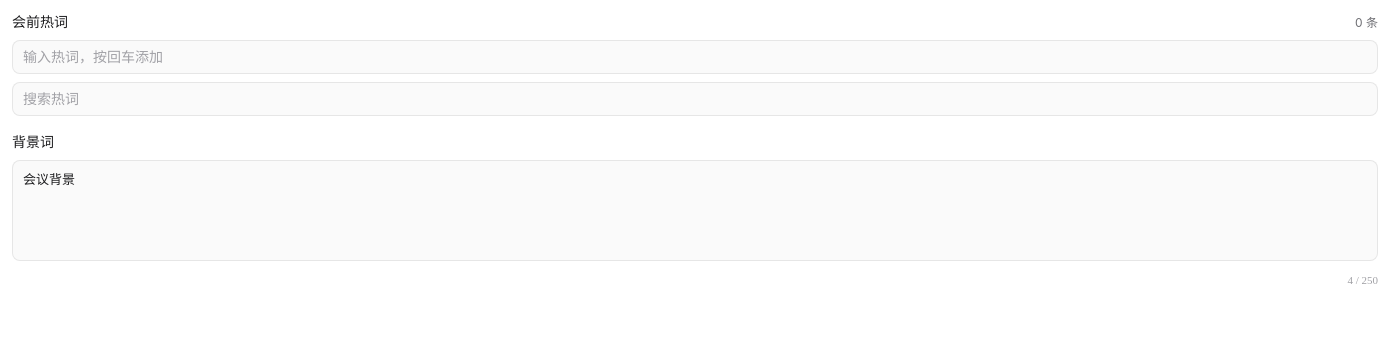
Test case: HotwordEditor › adds on Enter, deduplicates, and saves removals
The image size is (1390, 353).
Type "十五五规划" into the field named "添加热词" at (695, 57), box [12,40,1378,74]
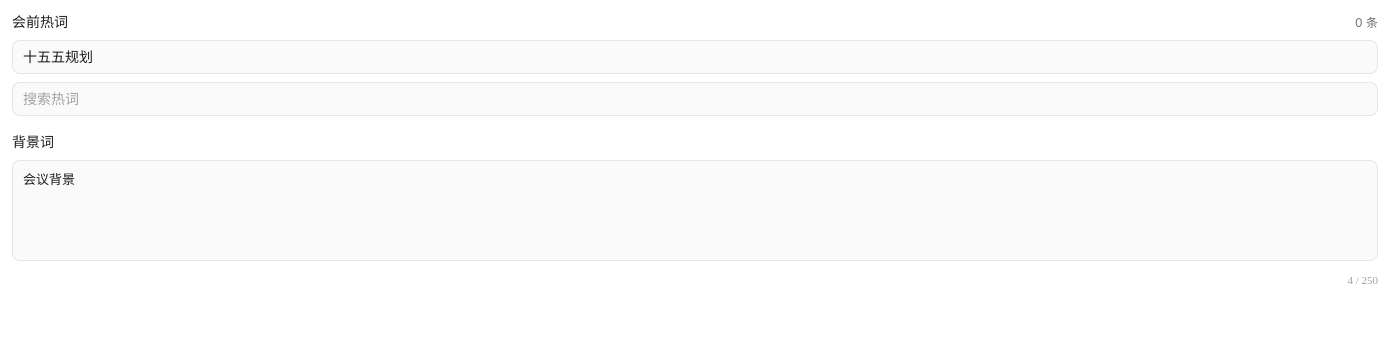
Press Enter in the field named "添加热词", box [12,40,1378,74]
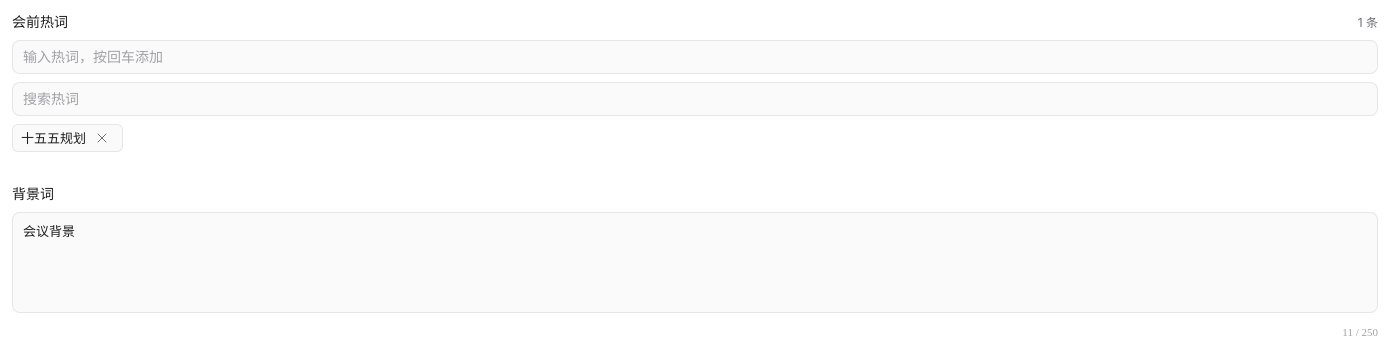
Type " 十五五规划 " into the field named "添加热词" at (695, 57), box [12,40,1378,74]
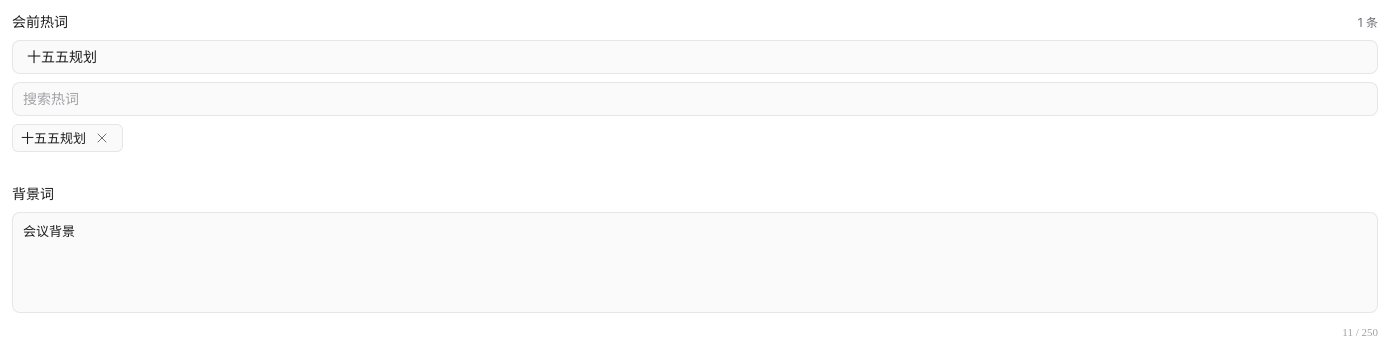
Press Enter in the field named "添加热词", box [12,40,1378,74]
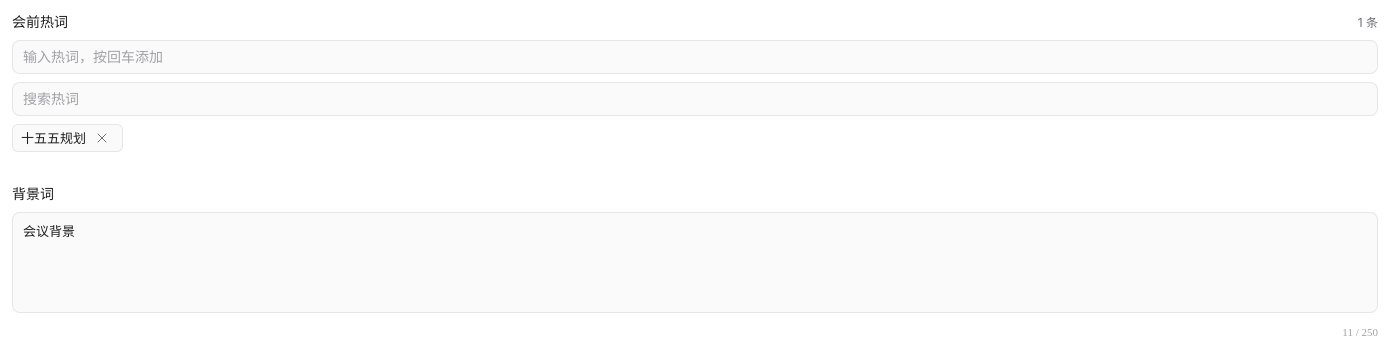
Expected: the number of list items is 1, [12,124,123,152]
Click the button named "删除热词 十五五规划" at (102, 138), box [90,126,114,150]
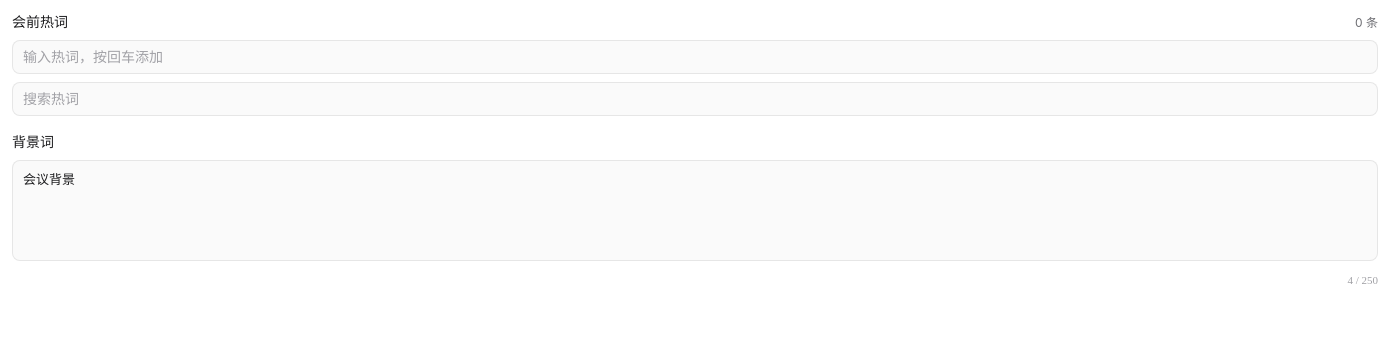
Expected: the list item "十五五规划" is gone
